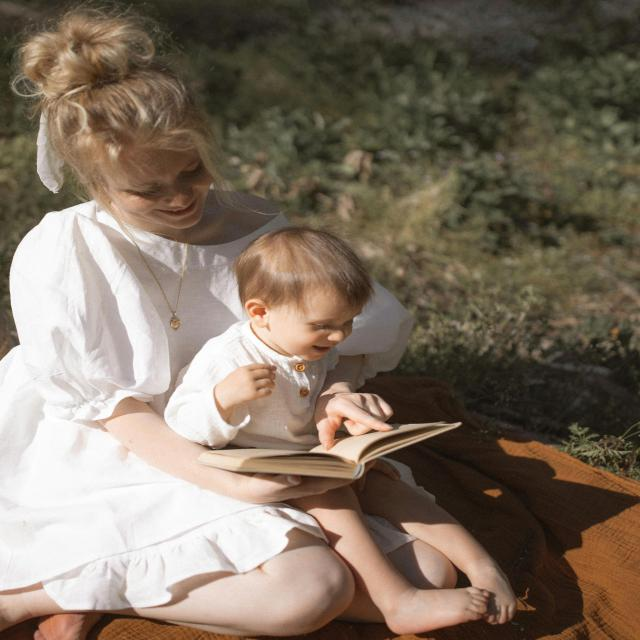sit: (2, 14, 348, 640), (169, 219, 538, 636)
